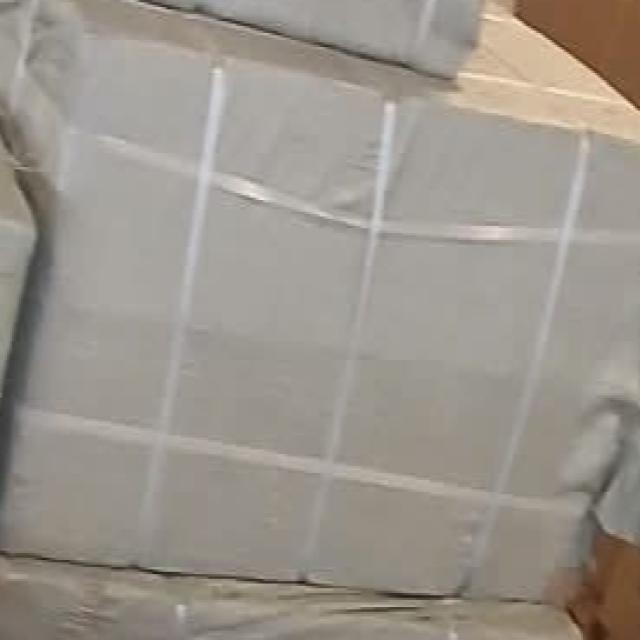package_damage: (543, 381, 640, 614)
